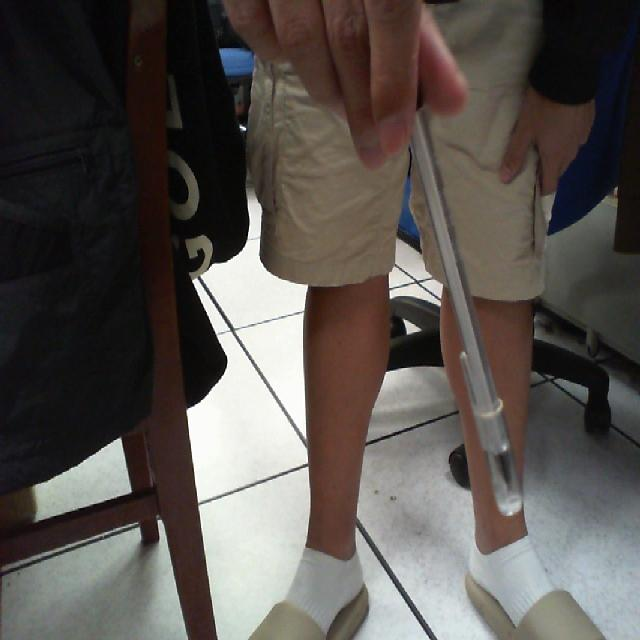Pen: (380, 94, 546, 565)
